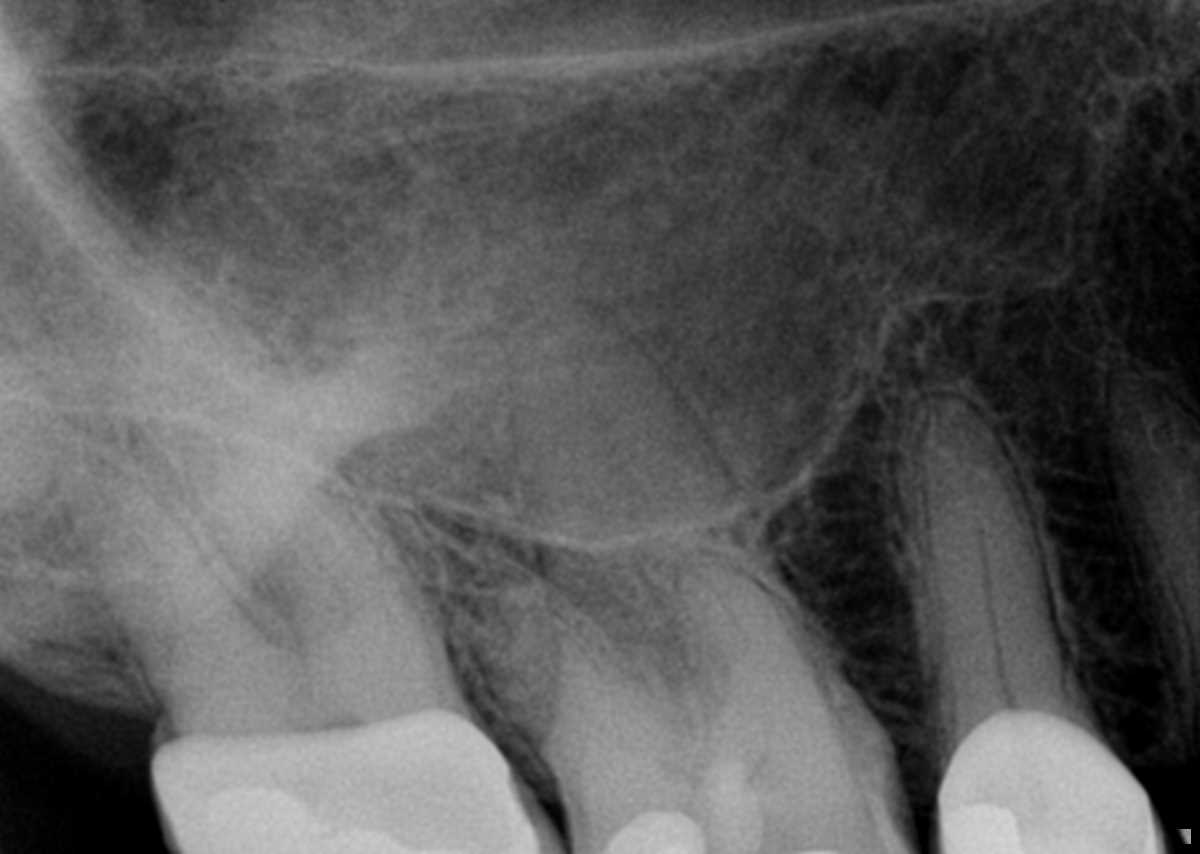Apical Lesion: (431, 524, 534, 637)
Distal Root: (50, 454, 271, 698), (451, 563, 666, 785)
Main Canal: (980, 528, 1011, 705)
Main Root: (911, 394, 1068, 726), (1103, 364, 1200, 687)
Mesial Canal: (746, 722, 772, 780)
Mesial Root: (180, 444, 408, 631), (673, 557, 832, 733)
Palatal Root: (508, 301, 796, 731), (155, 280, 428, 699)
